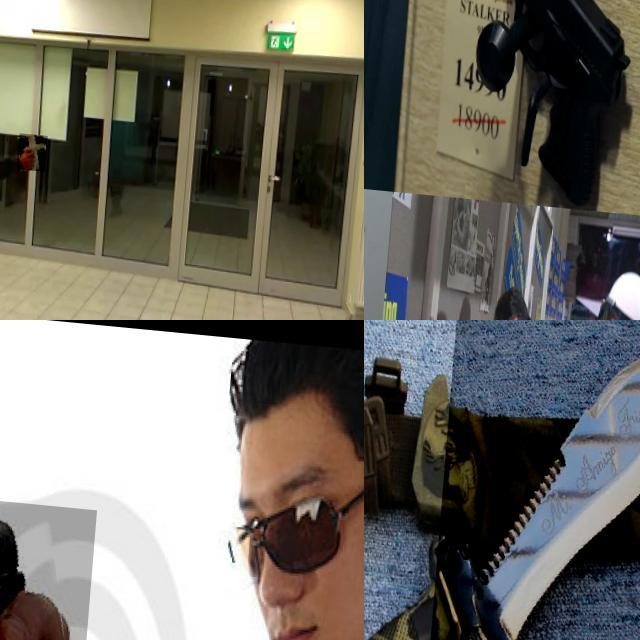-: (437, 320, 640, 640)
gun-knife-thesis - v11 Yolov5 augmented: (473, 0, 633, 200), (0, 488, 115, 640), (364, 214, 453, 320), (364, 96, 387, 159), (22, 130, 54, 168), (561, 294, 594, 320)
